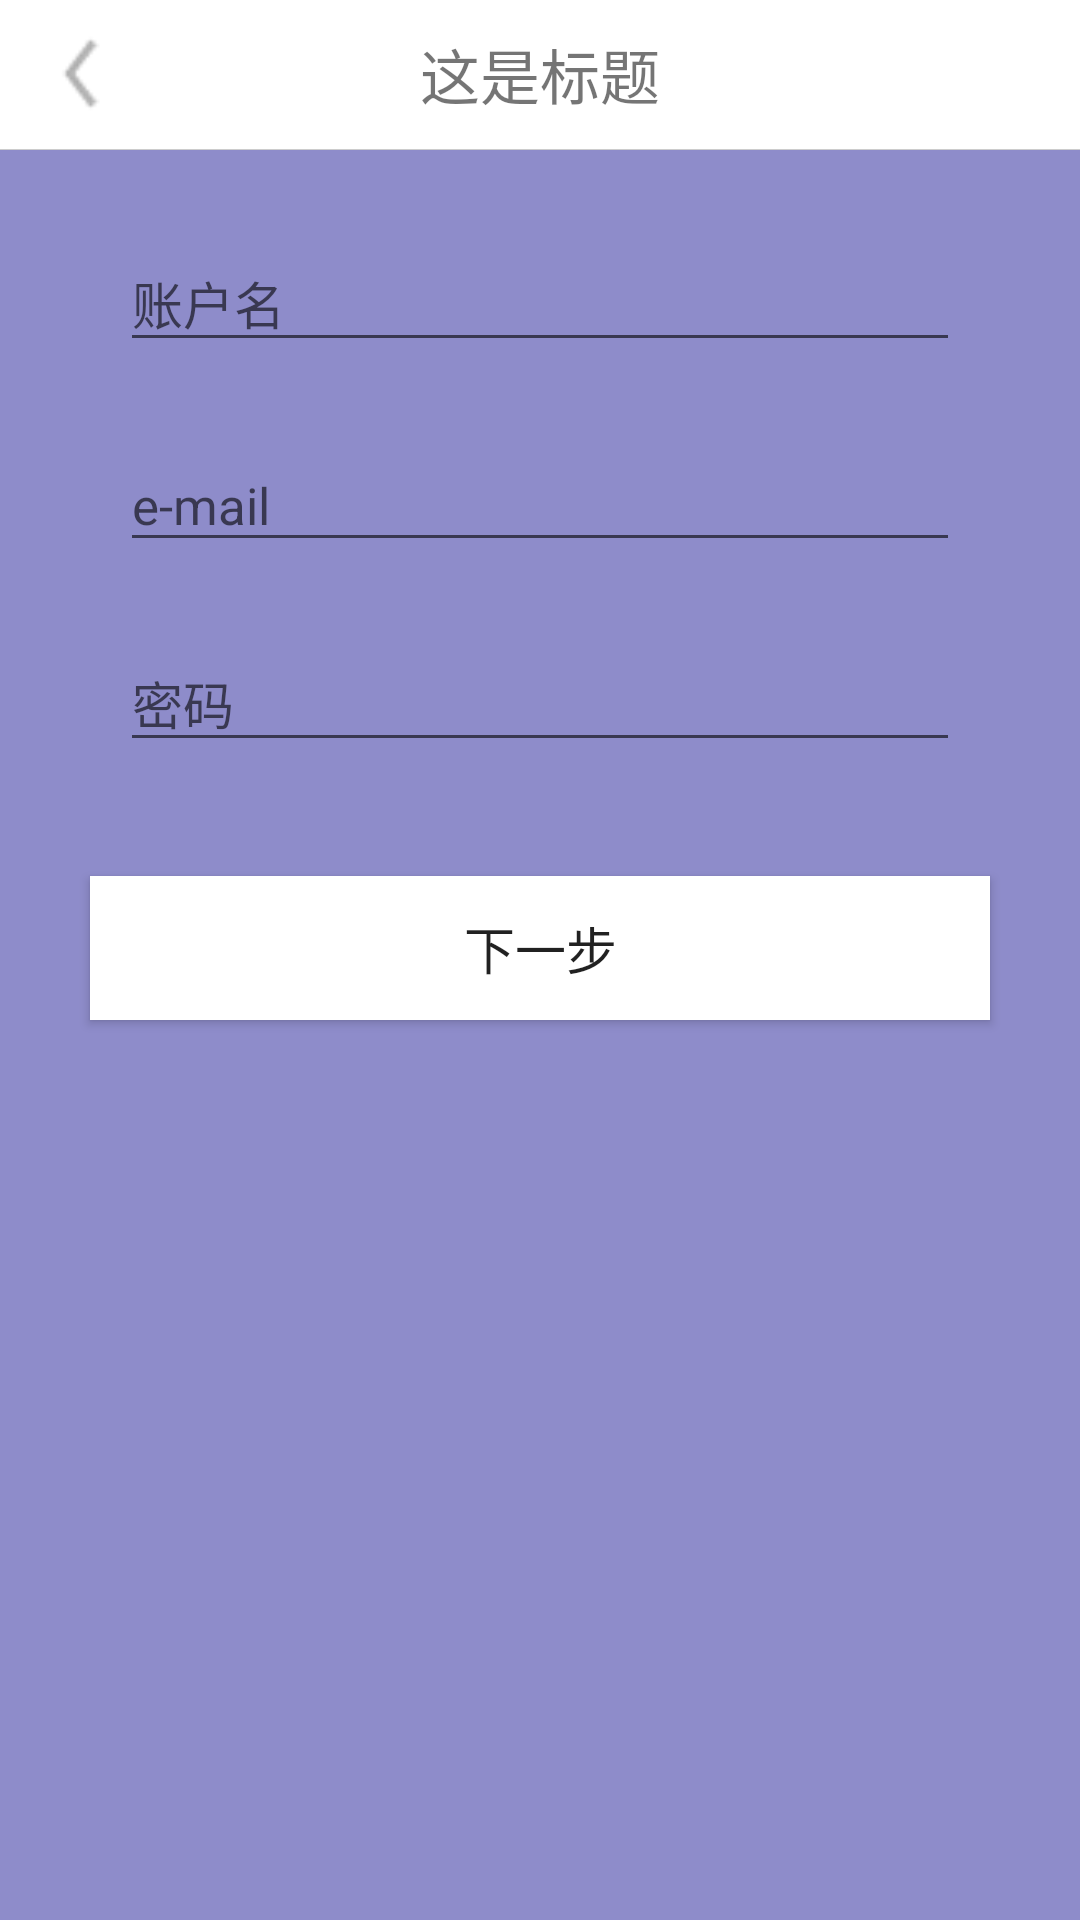

Icon click points for this 1080px x 1920px phone screenshot, format point (x, y):
backbtn: point (81, 73)
